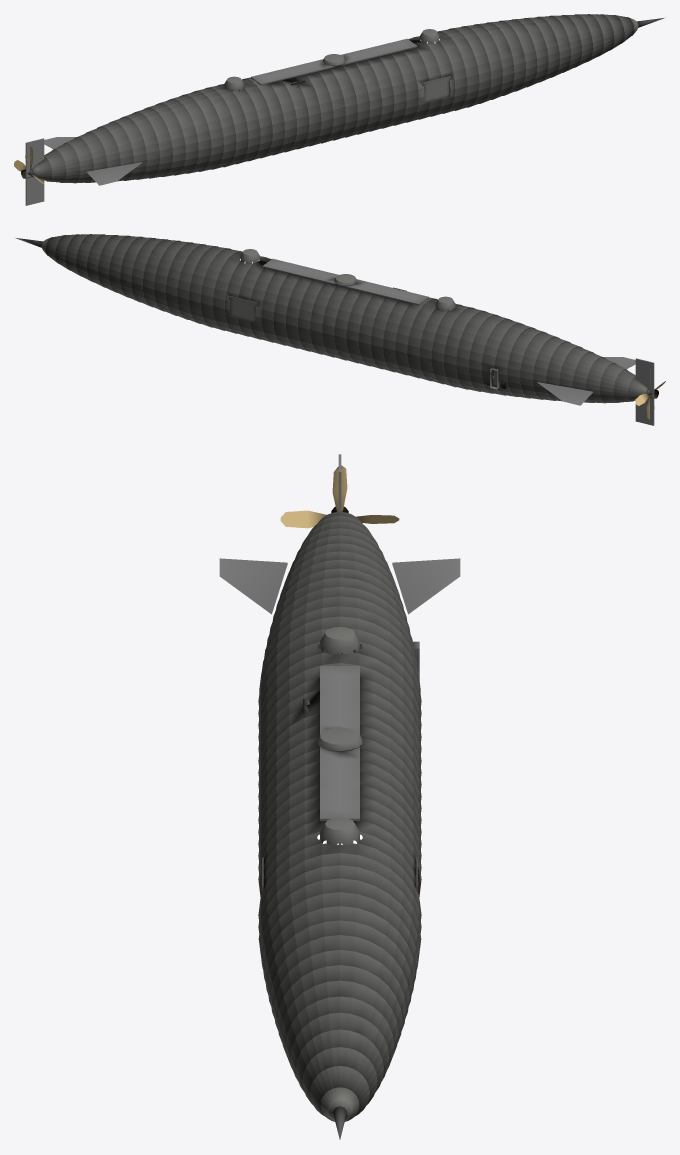
Rendered from nautilus.glb.
3 views of the same model, one above another, from view 1: azimuth 30°, elevation 25°; view 2: azimuth 150°, elevation 25°; view 3: azimuth 270°, elevation 25° (orthographic). The views are drawn at different scales.
Visible parts, largest first — view 1: hull, hull_details, IA_panel_S; view 2: hull, hull_details, IA_panel_P; view 3: hull, hull_details, screw.
Boxes of the visible parts, x1,y1,x2,y2 form: hull: (27, 14, 638, 183); hull_details: (21, 17, 665, 205); IA_panel_S: (422, 75, 450, 102); hull: (41, 234, 652, 403); hull_details: (14, 237, 658, 425); IA_panel_P: (229, 295, 257, 322); hull: (258, 512, 421, 1121); hull_details: (219, 454, 460, 1139); screw: (280, 465, 399, 528).
Size of the model in its own units: 74 by 8.92 by 12.
